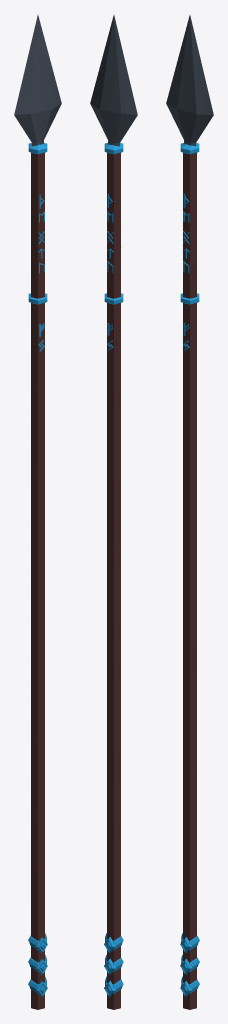
File: Spear_1.fbx
3 views of the same model, side by side, from view 1: azimuth 30°, elevation 25°; view 2: azimuth 150°, elevation 25°; view 3: azimuth 330°, elevation 25° (orthographic).
Parts seen in each view (by area): view 1: Spear_1; view 2: Spear_1; view 3: Spear_1.
Boxes of the visible parts, x1,y1,x2,y2 form: Spear_1: (14, 15, 61, 1009); Spear_1: (90, 15, 137, 1009); Spear_1: (166, 15, 213, 1009).
Bounding box in the file's own units: 8.98 × 178 × 3.57.
1 material, 1 textured.
